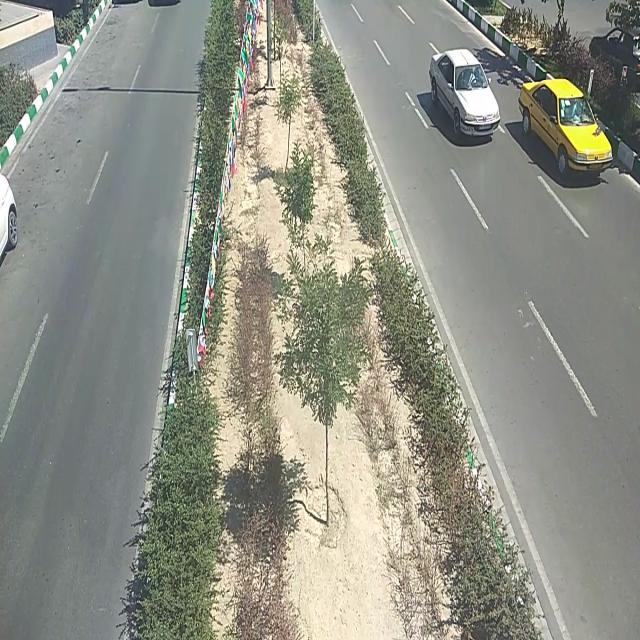car: (519, 77, 613, 172), (430, 46, 500, 140)
